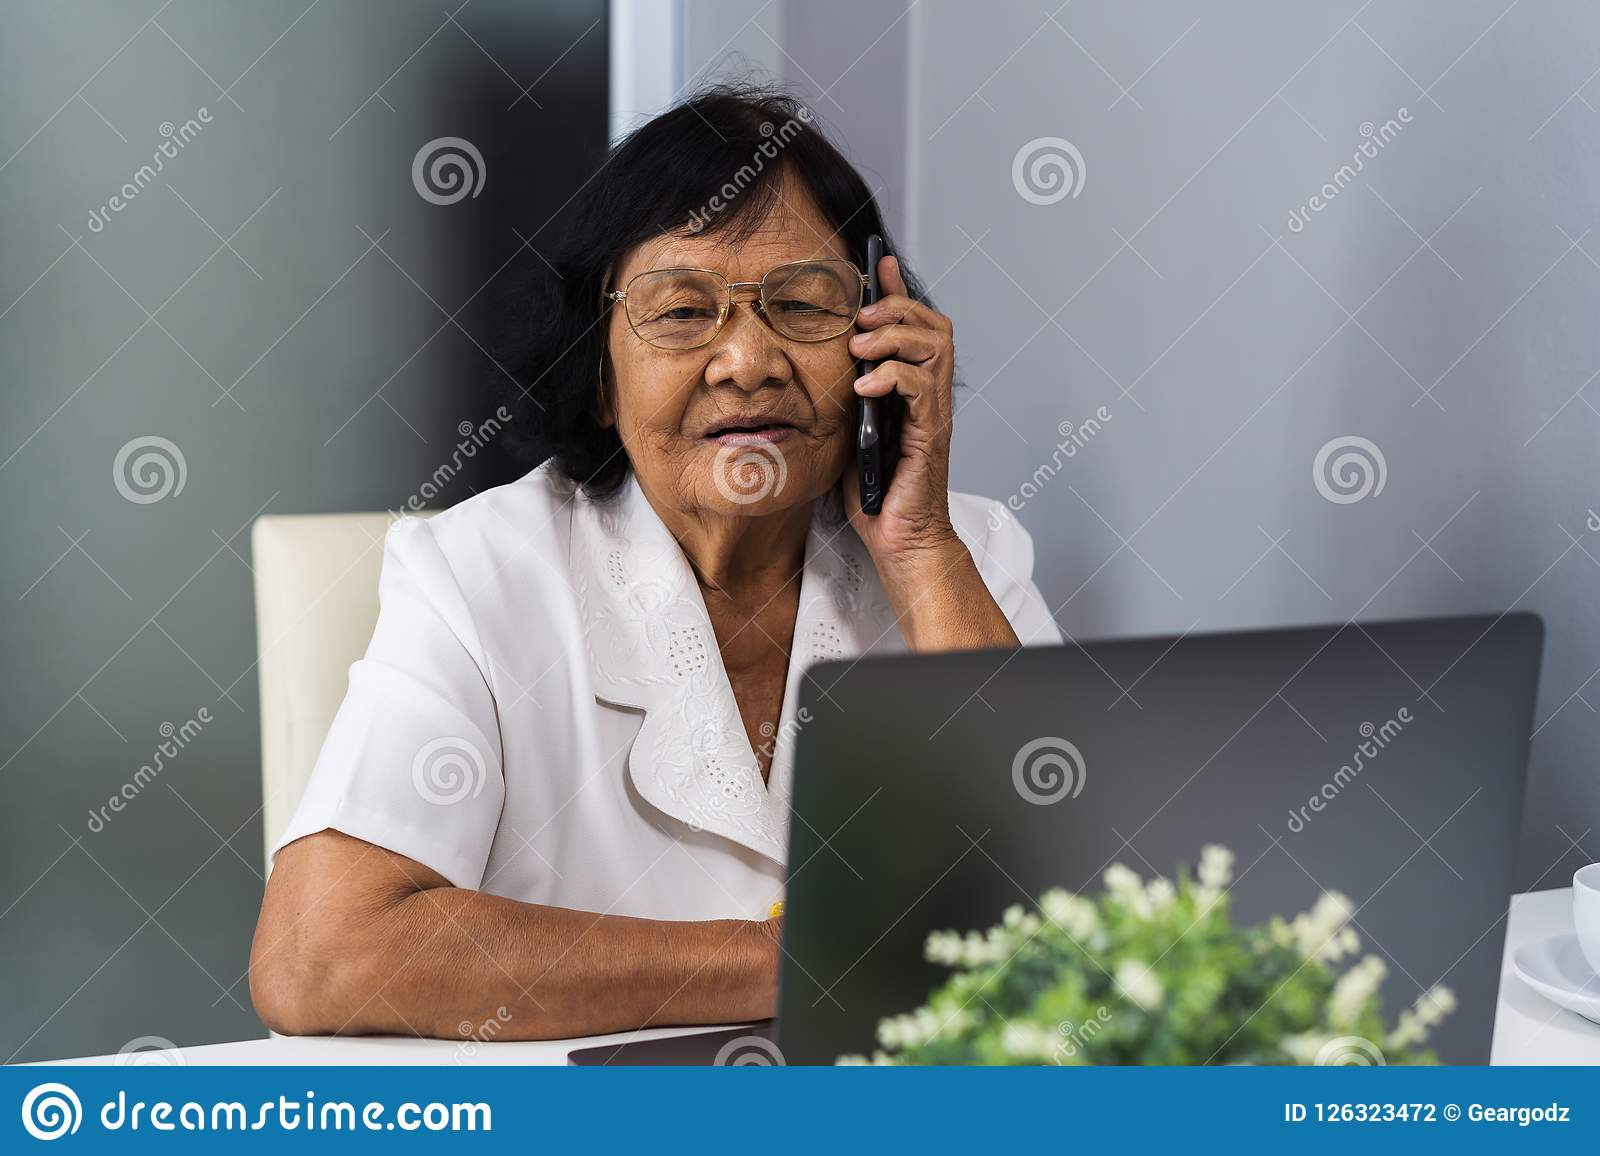phone: (853, 233, 901, 524)
talk: (619, 238, 964, 570)
